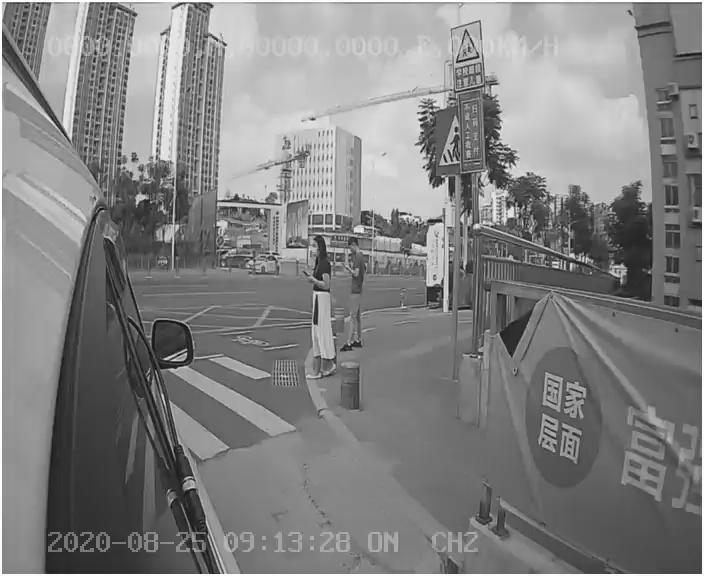person: (296, 234, 344, 380)
